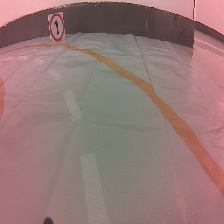limit: (47, 11, 66, 43)
